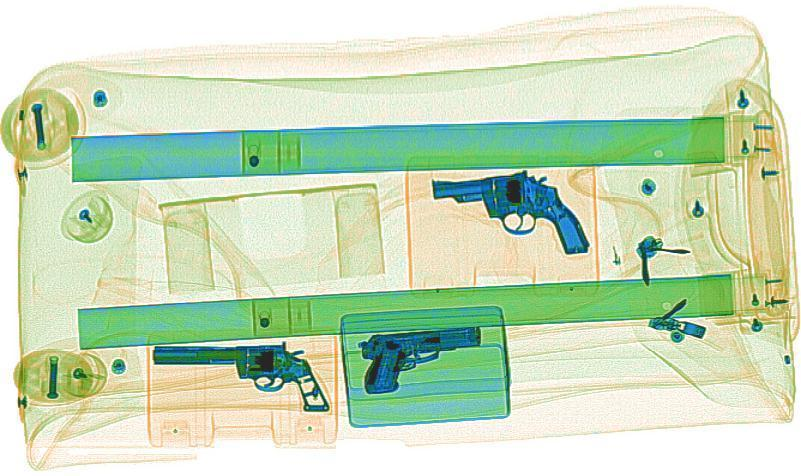Gun: (424, 167, 591, 267), (150, 340, 330, 414), (346, 323, 492, 393)
